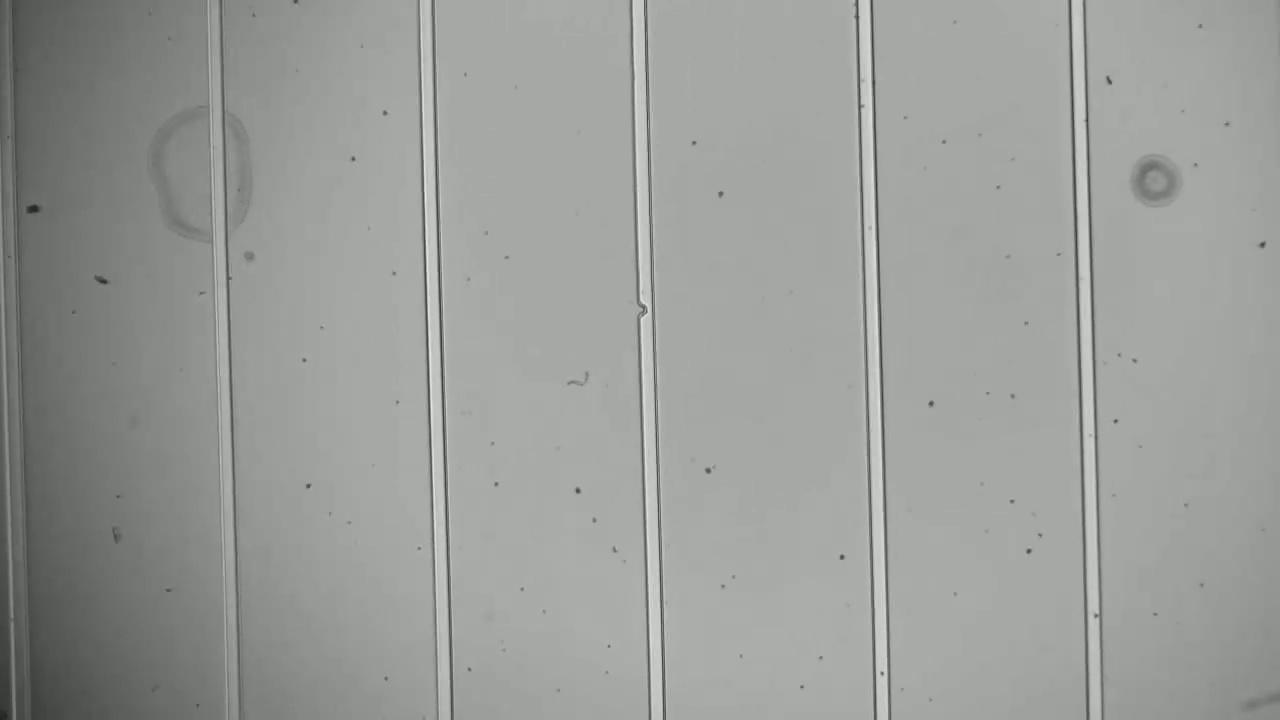edge_bite: (630, 297, 661, 324)
